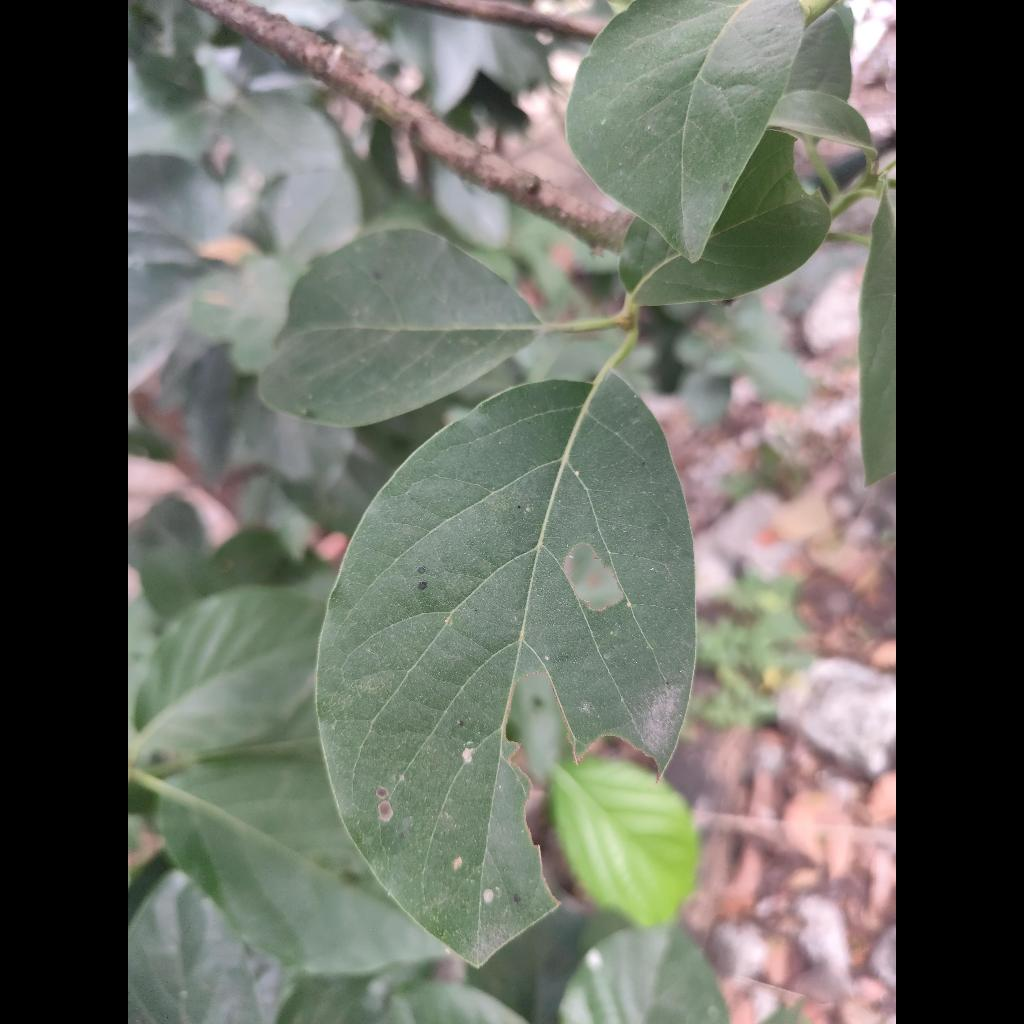Pest Infested: (317, 372, 695, 963)
